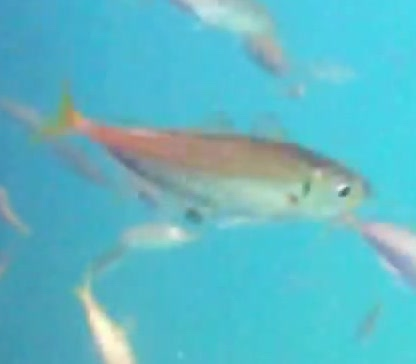azi: (59, 90, 363, 227)
